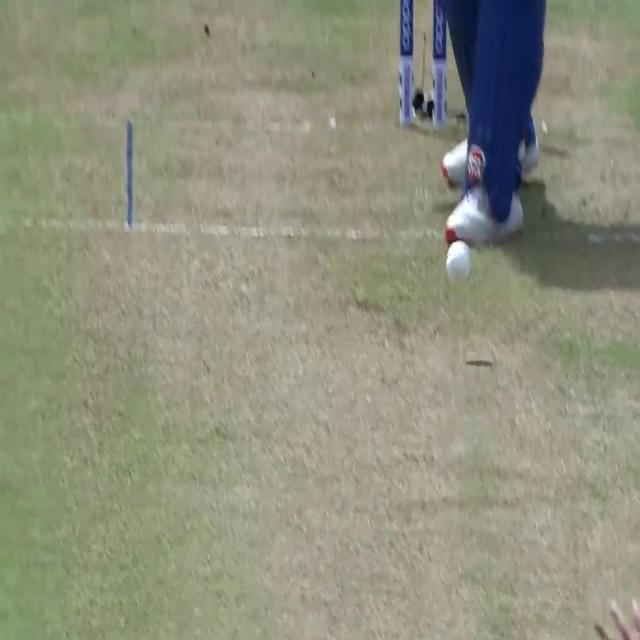ball: (446, 239, 474, 289)
